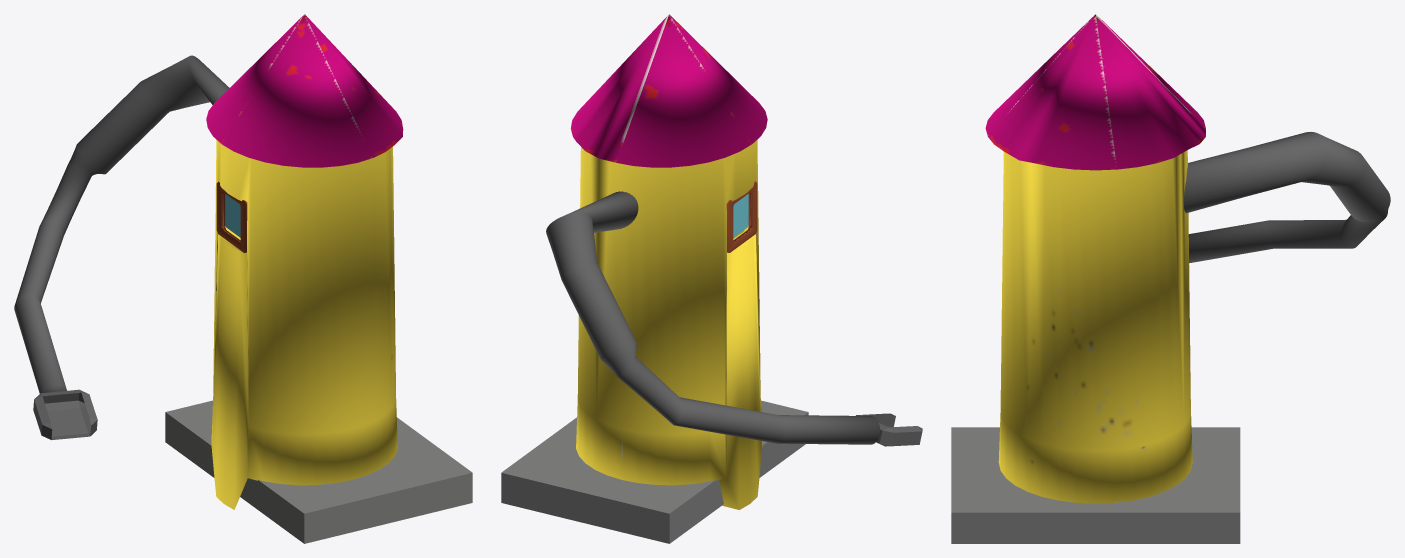
Rendered from Slurp silo.fbx.
3 views of the same model, side by side, from view 1: azimuth 30°, elevation 25°; view 2: azimuth 150°, elevation 25°; view 3: azimuth 270°, elevation 25° (orthographic). The views are drawn at different scales.
Visible parts, largest first — view 1: Silo, Slurp cylindor, Standon, Window pane; view 2: Silo, Slurp cylindor, Standon, Window pane, Window; view 3: Silo, Standon, Slurp cylindor.
Boxes of the visible parts, <box> form: Silo: <box>206,14,403,509</box>; Slurp cylindor: <box>14,55,229,440</box>; Standon: <box>165,400,472,543</box>; Window pane: <box>216,181,247,252</box>; Silo: <box>570,14,767,509</box>; Slurp cylindor: <box>546,191,922,446</box>; Standon: <box>501,400,808,543</box>; Window pane: <box>726,181,757,252</box>; Window: <box>733,194,748,237</box>; Silo: <box>985,14,1205,503</box>; Standon: <box>951,427,1240,543</box>; Slurp cylindor: <box>1183,132,1390,263</box>.
Size of the model in its own units: 1453 by 1831 by 1493.
